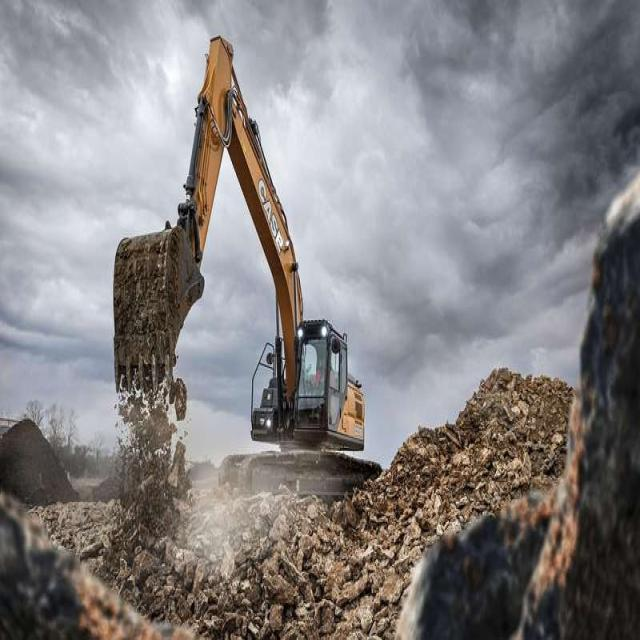excavator: (114, 34, 384, 502)
